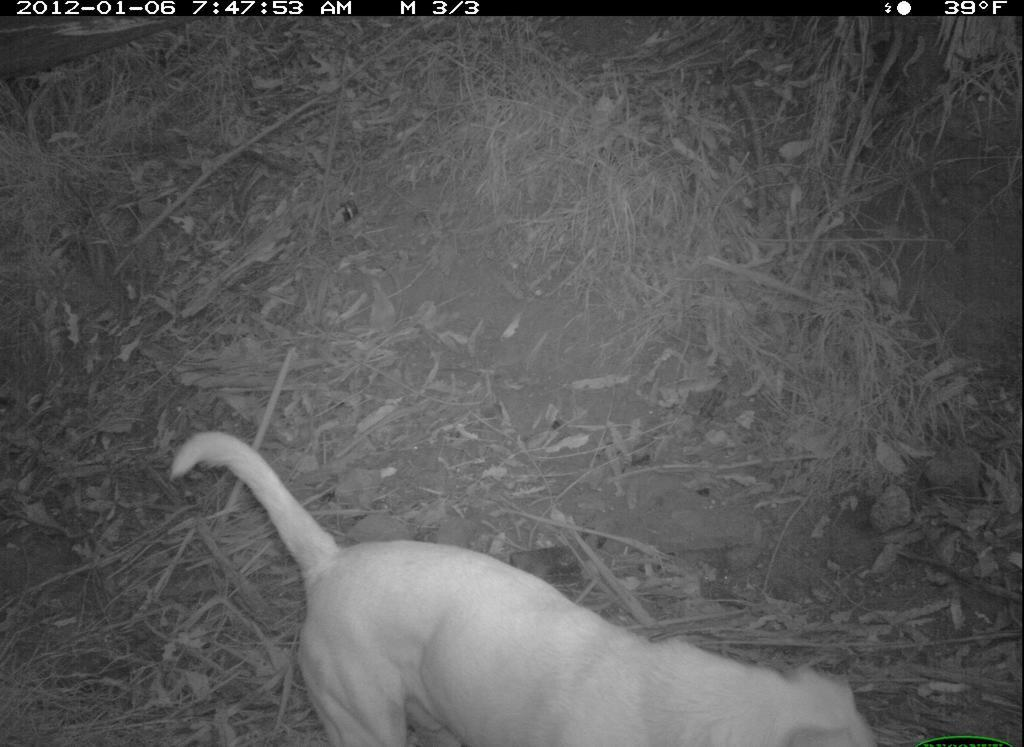dog: (157, 418, 889, 747)
